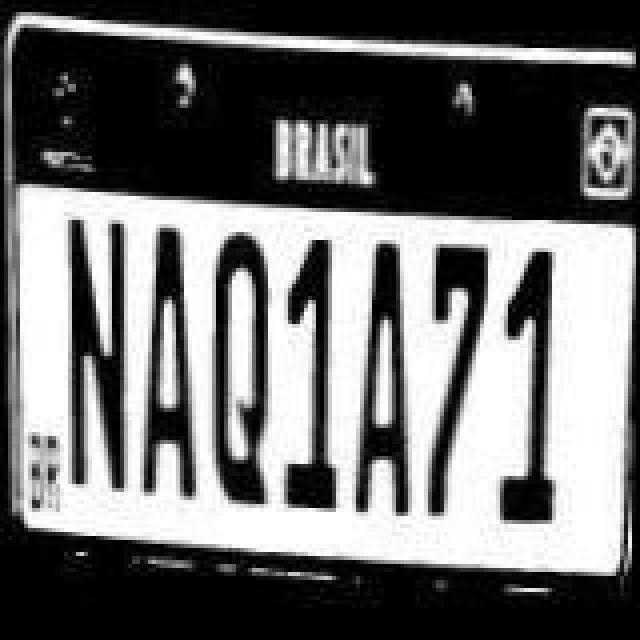1: (498, 242, 570, 542), (274, 234, 342, 510)
7: (426, 236, 498, 528)
A: (126, 218, 202, 506), (354, 236, 426, 528)
N: (50, 206, 126, 498)
Q: (206, 230, 274, 510)
